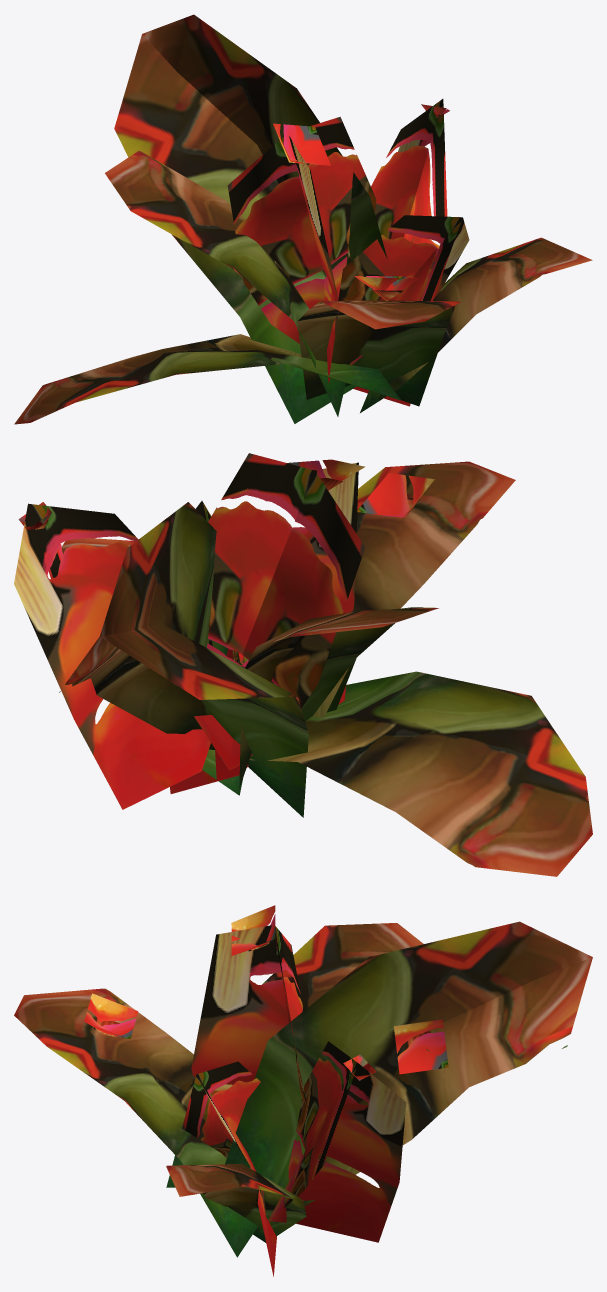
File: Scene_cao_004.FBX
3 renders of one model, top to bottom at view 1: azimuth 30°, elevation 25°; view 2: azimuth 150°, elevation 25°; view 3: azimuth 270°, elevation 25°, orthographic. The views are drawn at different scales.
Visible parts, largest first — view 1: Scene_cao_004; view 2: Scene_cao_004; view 3: Scene_cao_004.
Boxes of the visible parts, x1,y1,x2,y2 form: Scene_cao_004: (14, 14, 592, 424); Scene_cao_004: (14, 453, 592, 876); Scene_cao_004: (14, 905, 592, 1276).
Size of the model in its own units: 98.05 by 60 by 100.
